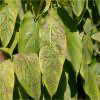Bell_pepper leaf spot: (39, 7, 67, 99), (63, 8, 83, 82), (12, 54, 42, 99), (17, 13, 44, 55), (0, 2, 18, 47), (80, 57, 99, 99), (0, 57, 14, 99)
